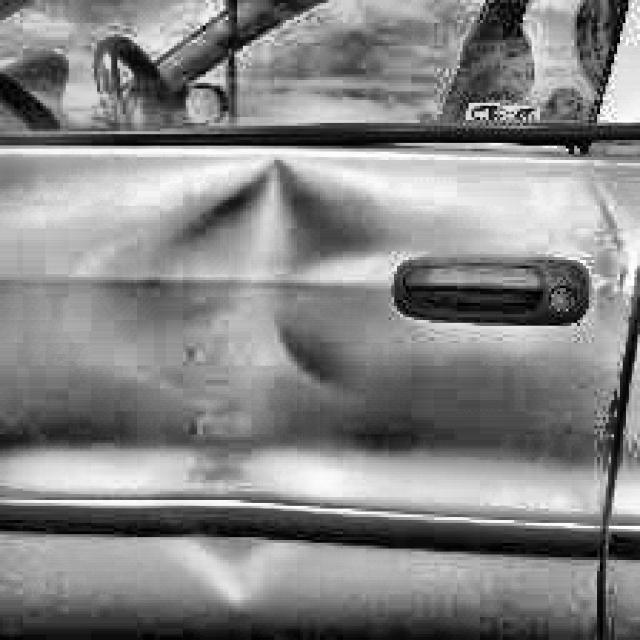door_dent: (144, 160, 339, 609)
